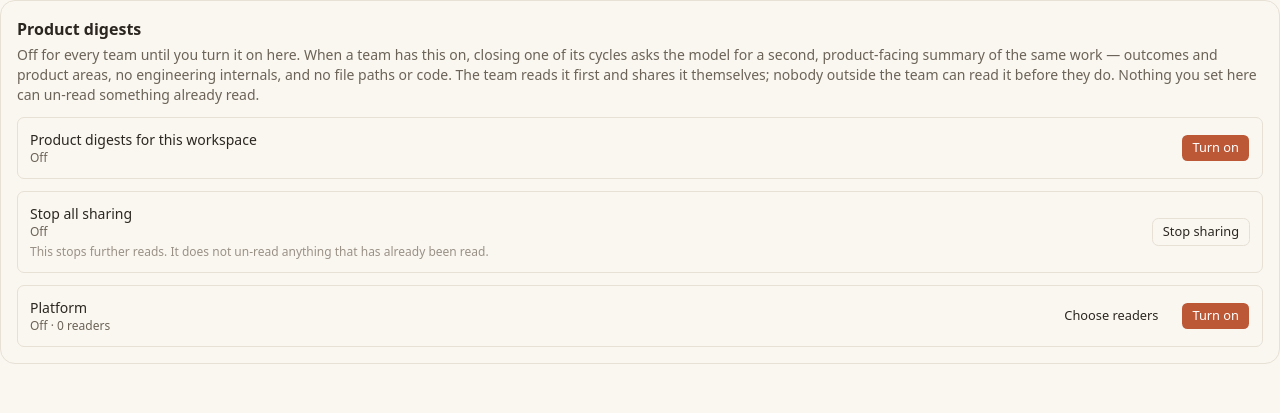
it: a failed write surfaces a reason and re-reads what is actually stored
Click the button with test id "pm-disclosure-enabled": (1216, 148) [1181,134,1250,162]
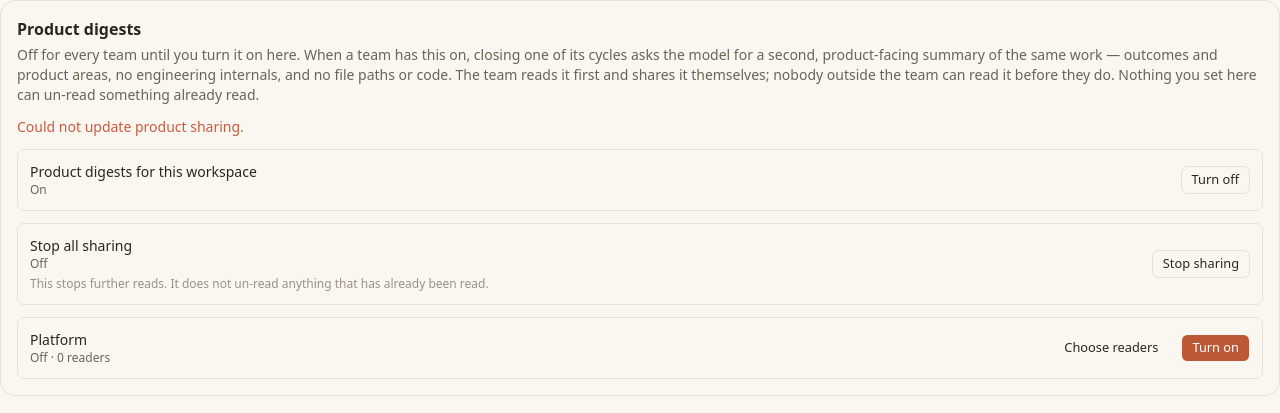
Result: the message reads "Could not update product sharing." at [17,117,244,136]
